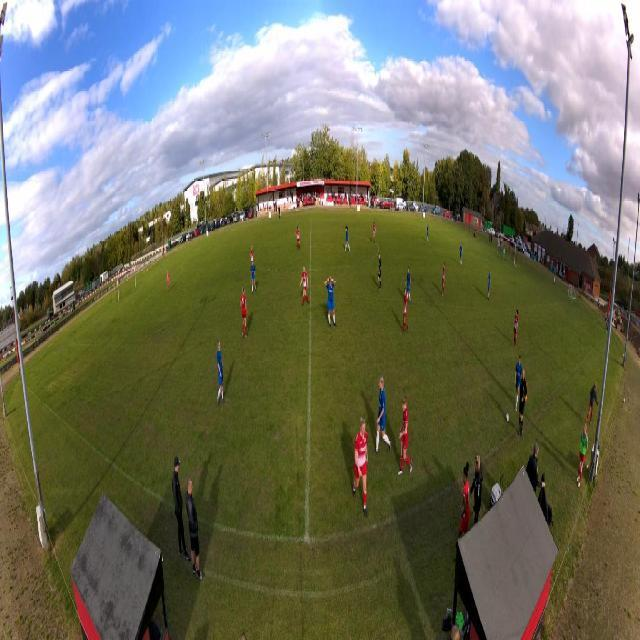ball: (506, 412, 510, 422)
player: (351, 415, 369, 519), (372, 375, 392, 456), (397, 392, 413, 477), (324, 274, 338, 330), (215, 338, 226, 406), (514, 355, 523, 414), (300, 264, 311, 308), (240, 285, 248, 340), (403, 287, 409, 336), (405, 265, 412, 306), (512, 308, 519, 349), (251, 259, 257, 295), (378, 251, 383, 290), (441, 261, 446, 299), (344, 226, 351, 253), (487, 268, 492, 302), (295, 225, 301, 252), (249, 244, 254, 268), (459, 242, 463, 267), (166, 269, 170, 293), (373, 223, 377, 244), (502, 246, 506, 266), (426, 222, 429, 242)
